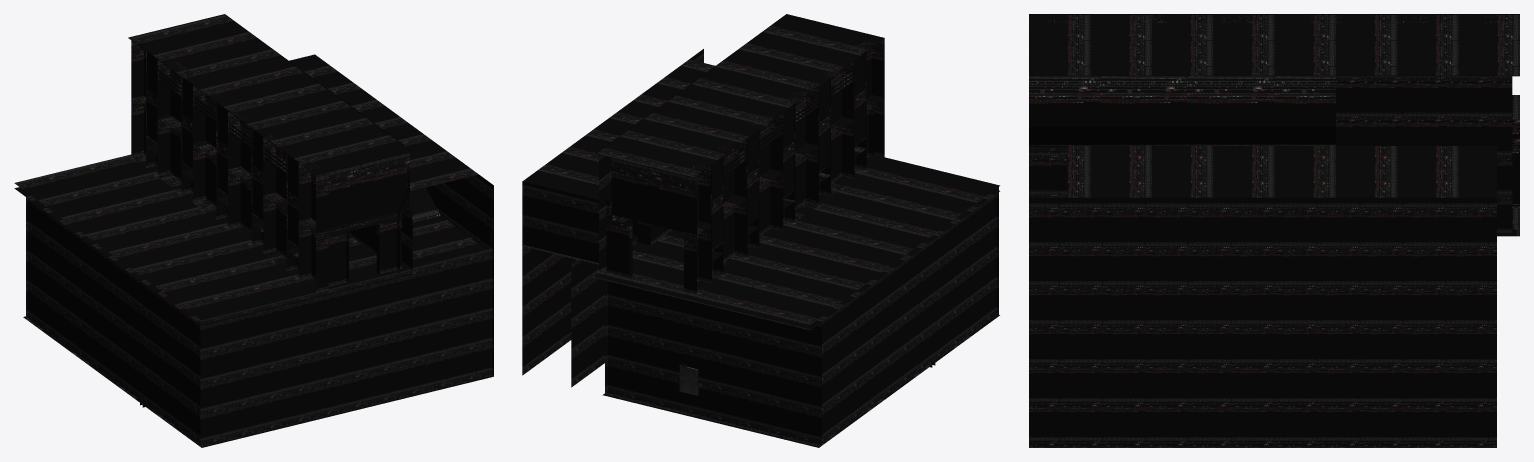
File: room012_opt.obj
3 renders of one model, left to right at view 1: azimuth 30°, elevation 25°; view 2: azimuth 150°, elevation 25°; view 3: azimuth 270°, elevation 25°, orthographic. The views are drawn at different scales.
Size of the model in its own units: 1840 by 1508 by 2048.
